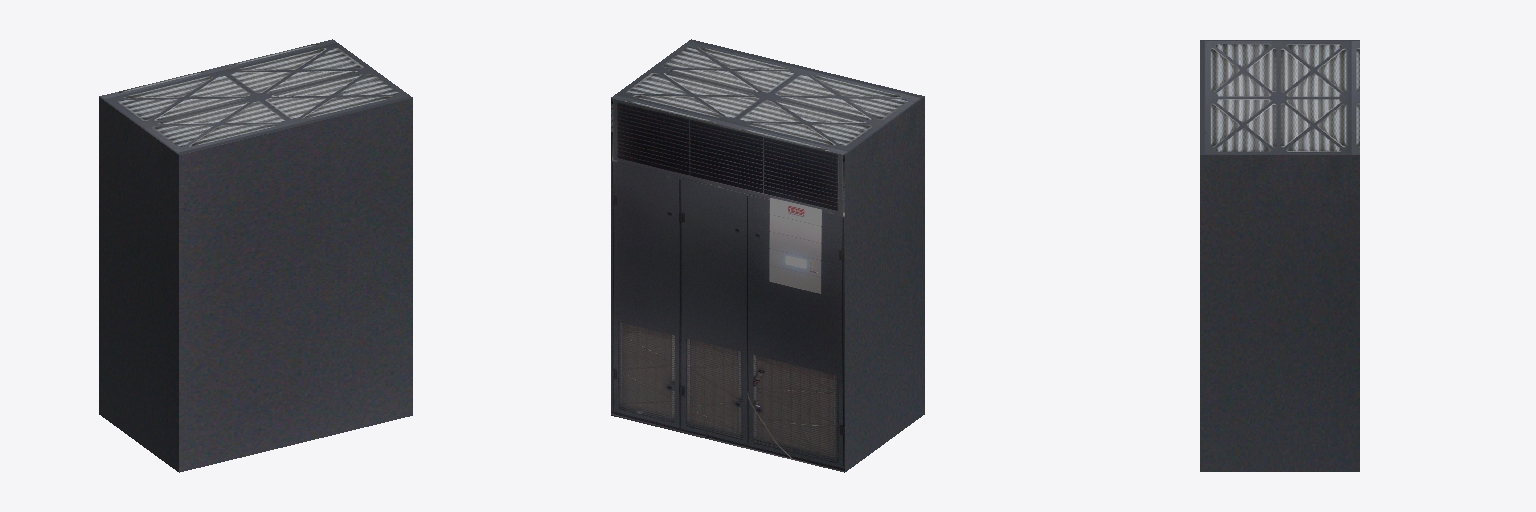
3 views of the same model, side by side, from view 1: azimuth 30°, elevation 25°; view 2: azimuth 150°, elevation 25°; view 3: azimuth 270°, elevation 25° (orthographic).
Visible parts, largest first — view 1: Box1364; view 2: Box1364; view 3: Box1364.
Boxes of the visible parts, x1,y1,x2,y2 form: Box1364: [99, 39, 412, 472]; Box1364: [611, 39, 924, 472]; Box1364: [1200, 40, 1359, 471].
Bounding box in the file's own units: 1617 × 2092 × 961.
1 materials, 1 textured.